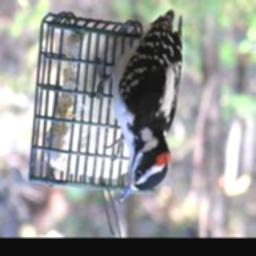Woodpecker: (91, 9, 183, 206)
